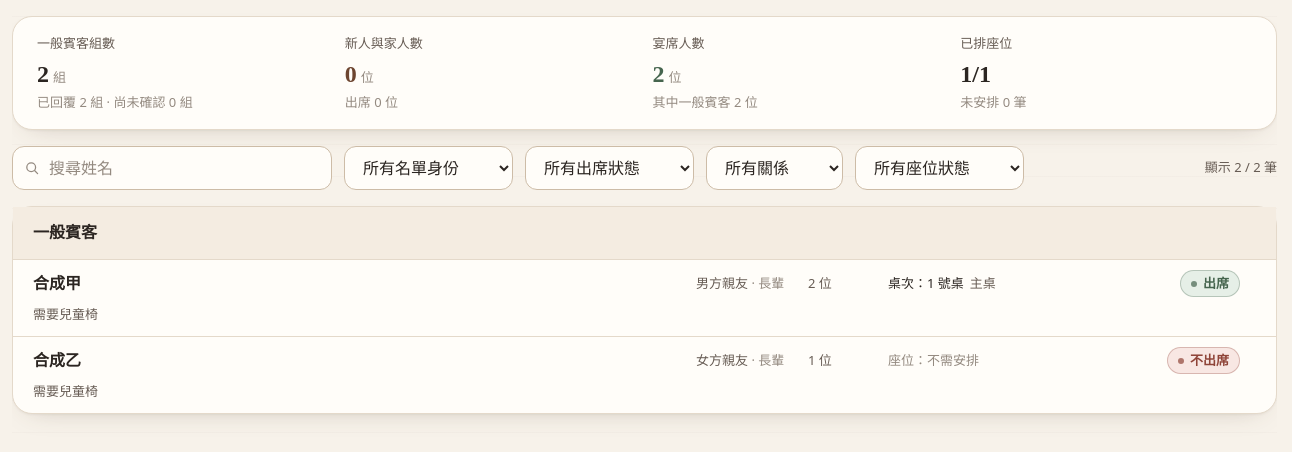
Test: GuestList › combines filters without exposing source-specific labels
Select "不出席" in the dropdown named "出席狀態篩選". click: (610, 168)
box: [525, 146, 694, 190]
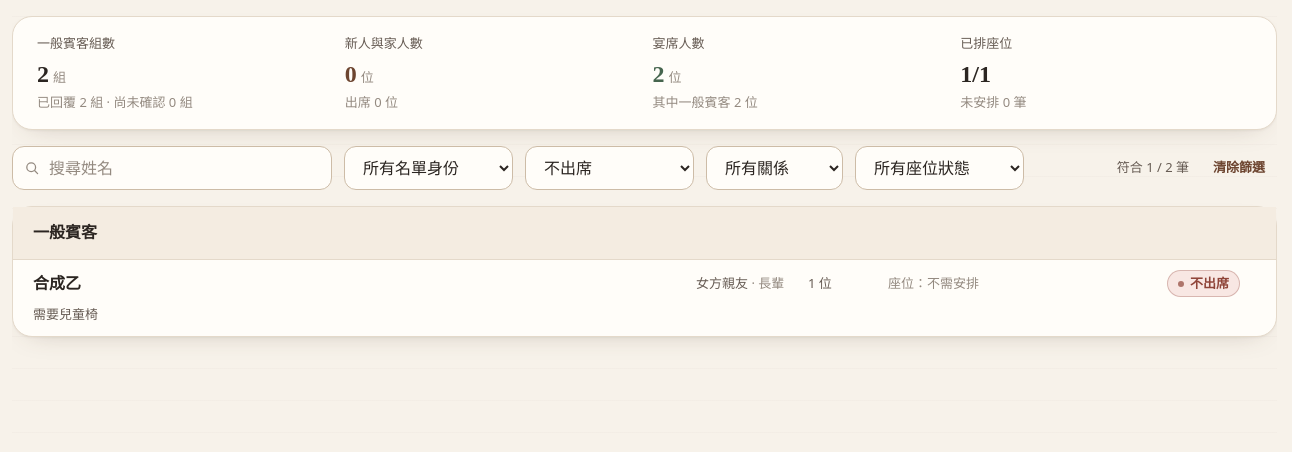
Select "女方親友" in the dropdown named "關係篩選". click: (774, 168)
box: [706, 146, 843, 190]
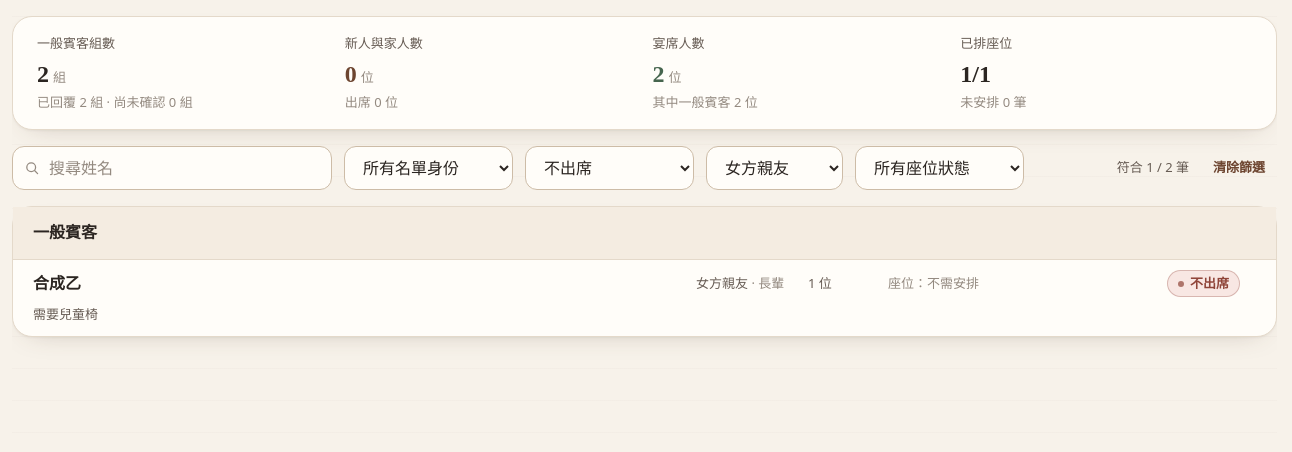
Expected: the heading "合成乙" is shown, [33, 275, 81, 292]
Expected: the heading "合成甲" is not shown
Select "未安排" in the dropdown named "座位狀態篩選". click: (940, 168)
box: [855, 146, 1024, 190]
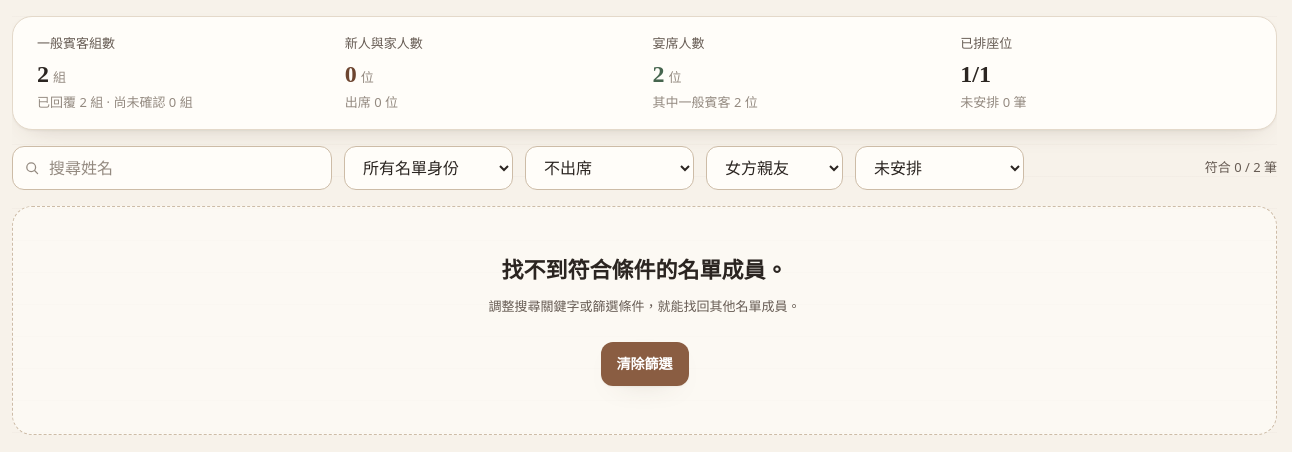
Now the heading "合成乙" is gone
Now the text "找不到符合條件的名單成員。" is shown, box [502, 258, 788, 283]
